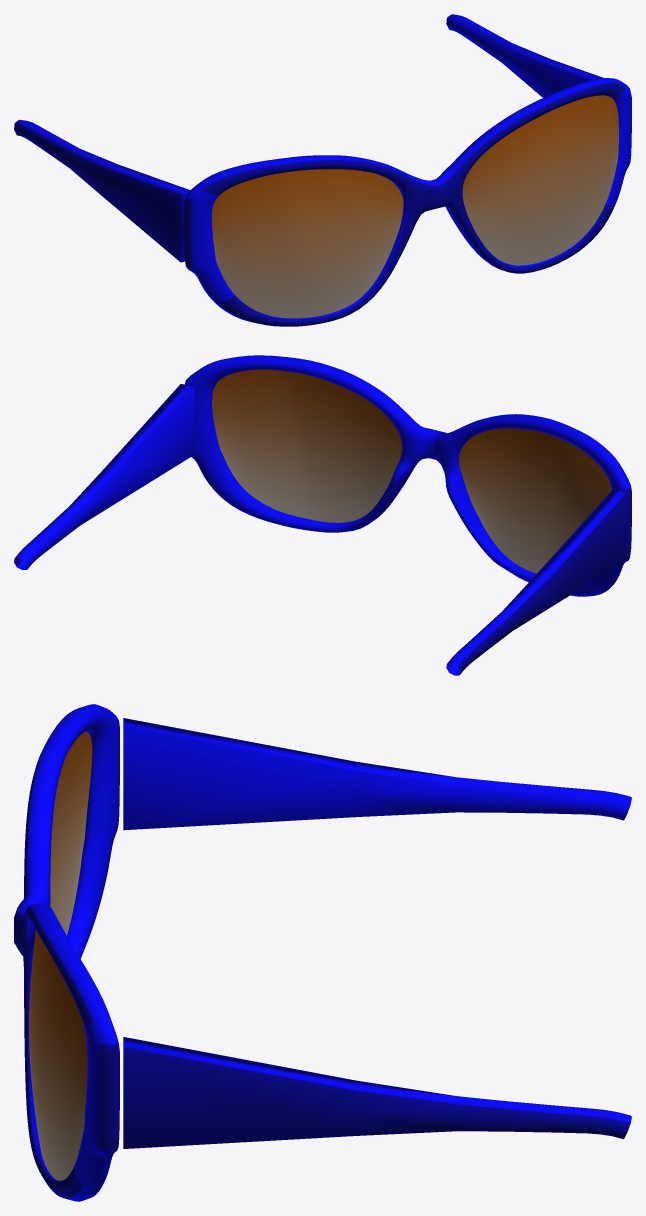
File: blueglasses2.obj
3 views of the same model, one above another, from view 1: azimuth 30°, elevation 25°; view 2: azimuth 150°, elevation 25°; view 3: azimuth 270°, elevation 25° (orthographic). The views are drawn at different scales.
Size of the model in its own units: 38.98 by 13.99 by 30.92.
4 materials, 1 textured.
